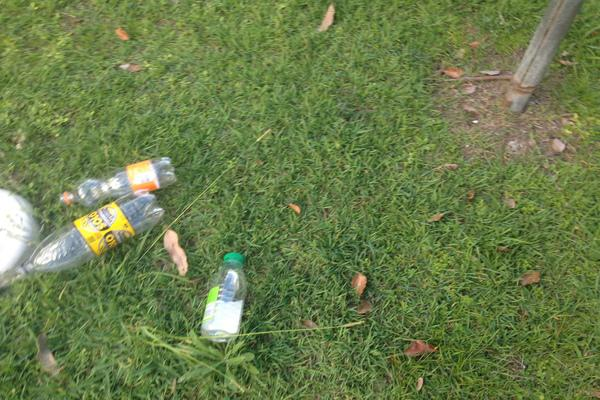Plastic Bottle: (18, 188, 165, 276), (58, 156, 177, 203), (199, 251, 247, 342)
